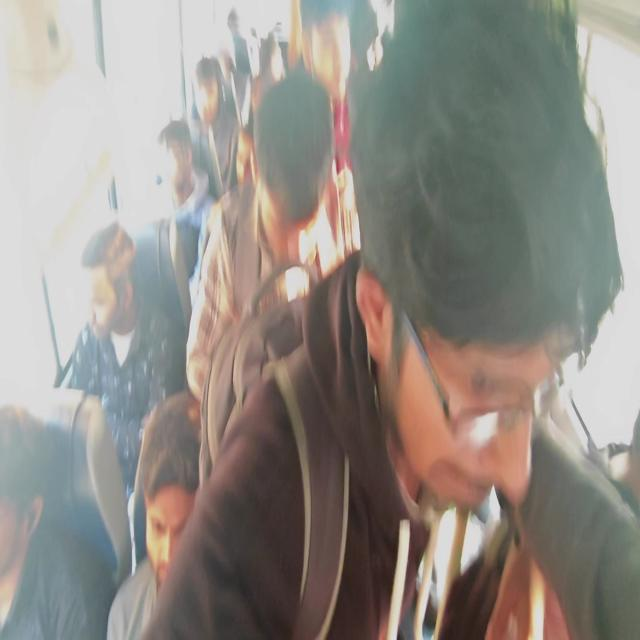person: (414, 72, 579, 444), (259, 104, 339, 284), (141, 431, 216, 599), (0, 405, 57, 595), (84, 240, 142, 321), (304, 18, 348, 91), (188, 72, 228, 145), (155, 138, 200, 199), (262, 29, 300, 83), (224, 14, 254, 73), (353, 2, 381, 61)
